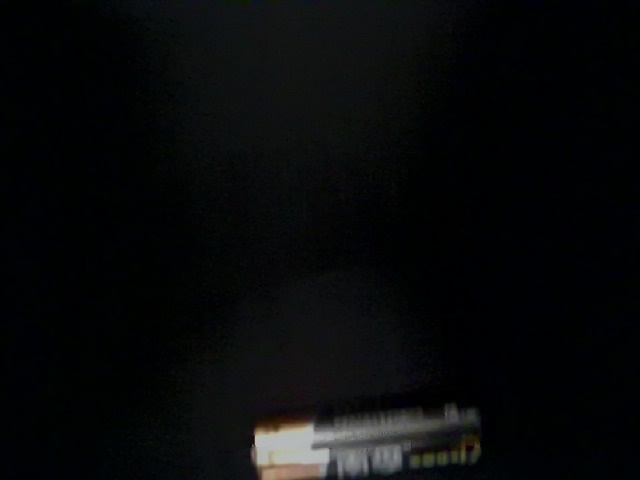QTLJ: (432, 52, 631, 279)
